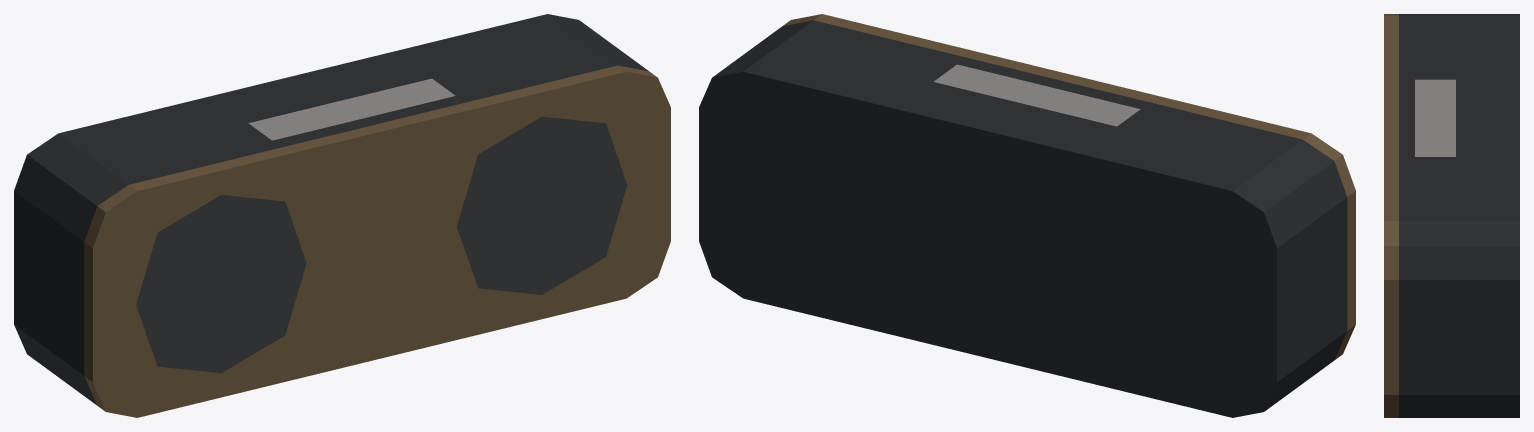
File: AmpHead.obj
3 views of the same model, side by side, from view 1: azimuth 30°, elevation 25°; view 2: azimuth 150°, elevation 25°; view 3: azimuth 270°, elevation 25° (orthographic). The views are drawn at different scales.
Size of the model in its own units: 0.6667 by 0.25 by 0.1577.
1 material, 1 textured.
